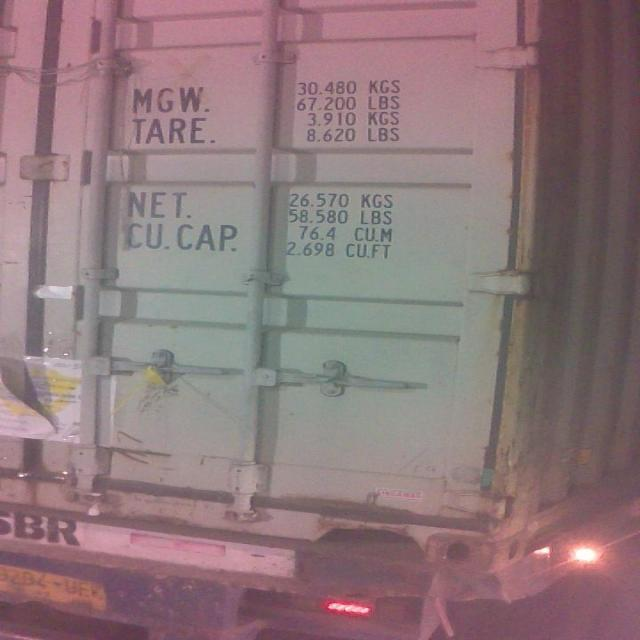seal: (83, 491, 104, 517), (144, 366, 162, 396)
